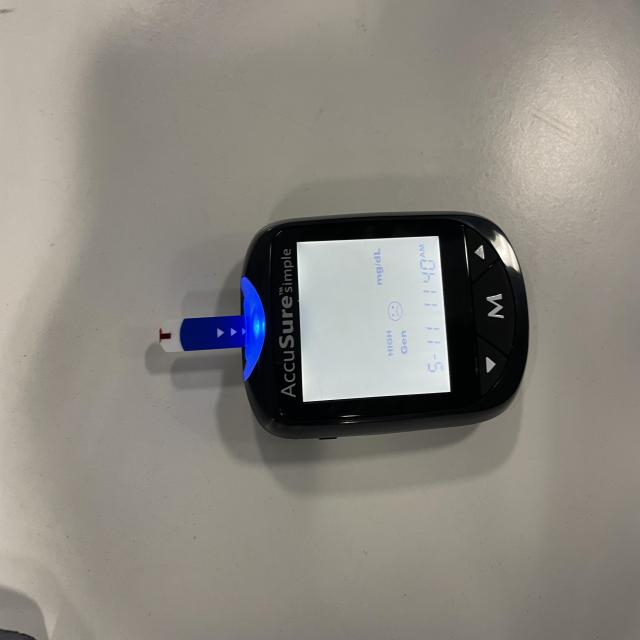gluco: (183, 212, 530, 441)
